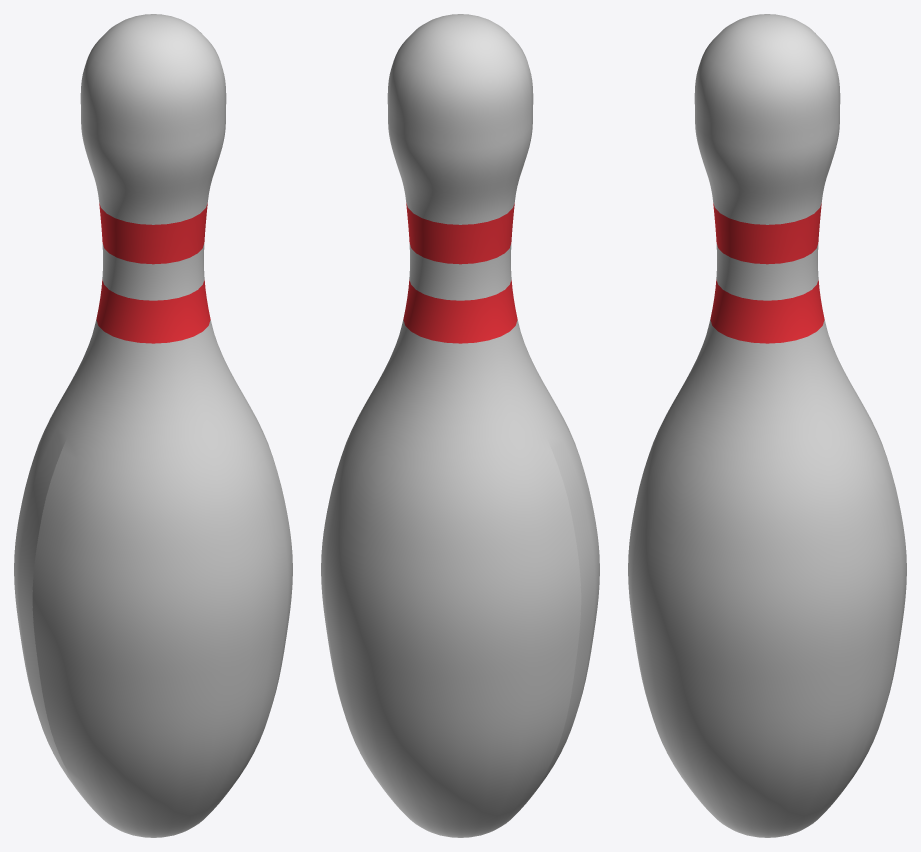
The model's file is Bowling-Alley.fbx.
3 views of the same model, side by side, from view 1: azimuth 30°, elevation 25°; view 2: azimuth 150°, elevation 25°; view 3: azimuth 270°, elevation 25° (orthographic).
Visible parts, largest first — view 1: Bowling Pin.018; view 2: Bowling Pin.018; view 3: Bowling Pin.018.
Boxes of the visible parts, x1,y1,x2,y2 form: Bowling Pin.018: (14,14,292,837); Bowling Pin.018: (321,14,599,837); Bowling Pin.018: (628,14,906,837).
Bounding box in the file's own units: 11.68 × 37.3 × 11.68.
